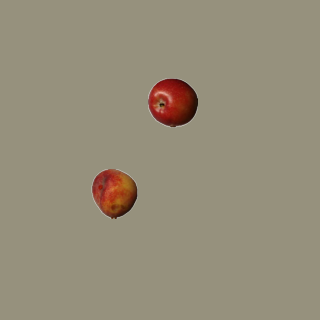Apple Braeburn: (147, 77, 197, 127)
Peach: (89, 168, 139, 218)
